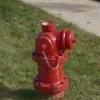Hydrant: (31, 12, 78, 95)
